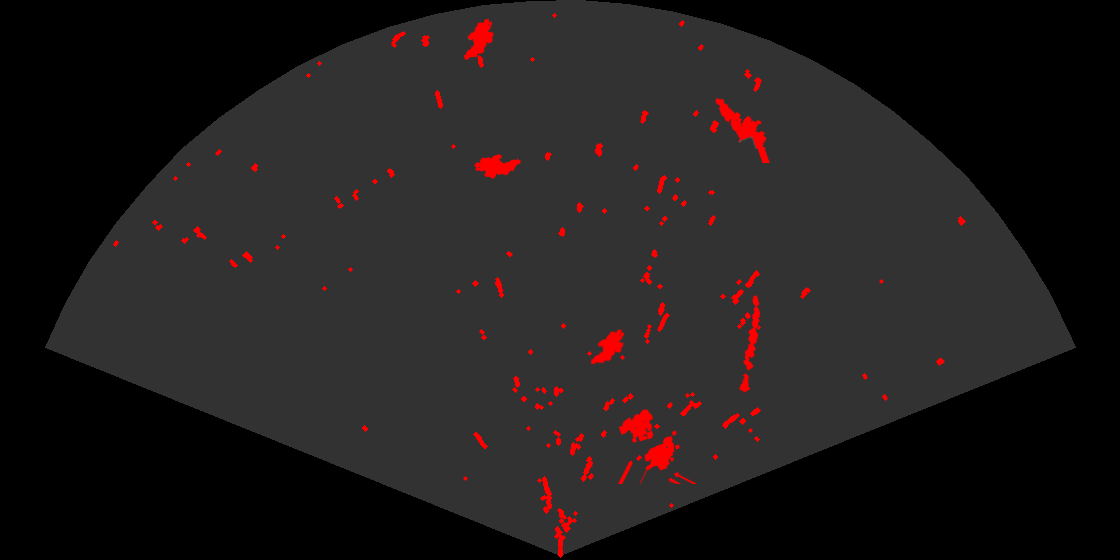AUV: (462, 17, 495, 61), (589, 328, 626, 366), (472, 153, 523, 180)
cage: (617, 408, 698, 484)
chain: (738, 293, 762, 395)
frogman: (714, 96, 771, 163)
